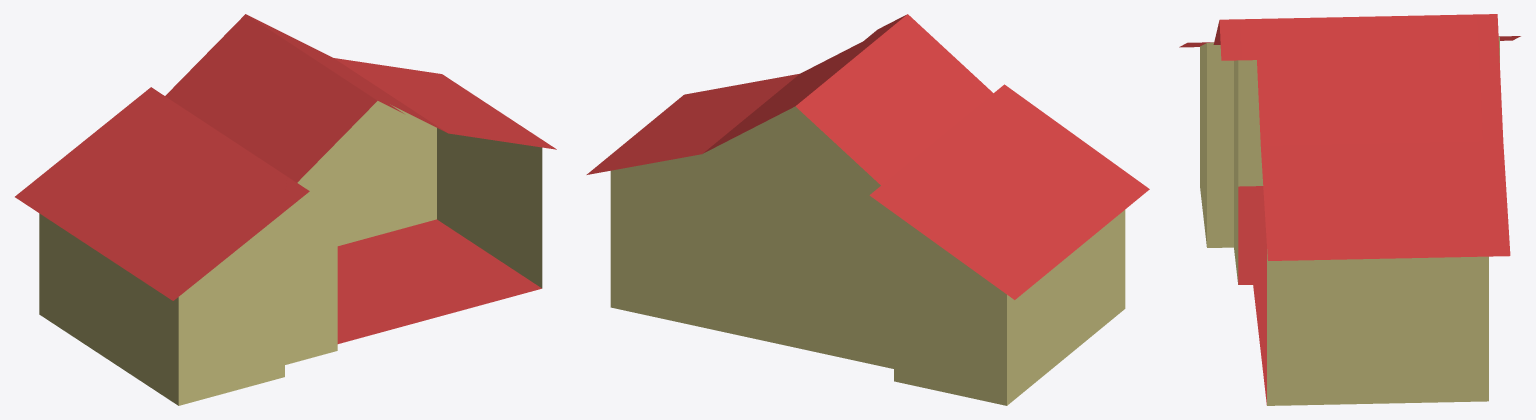
3 renders of one model, left to right at view 1: azimuth 30°, elevation 25°; view 2: azimuth 150°, elevation 25°; view 3: azimuth 270°, elevation 25°, orthographic. The views are drawn at different scales.
Size of the model in its own units: 20.87 by 12.48 by 11.36.
